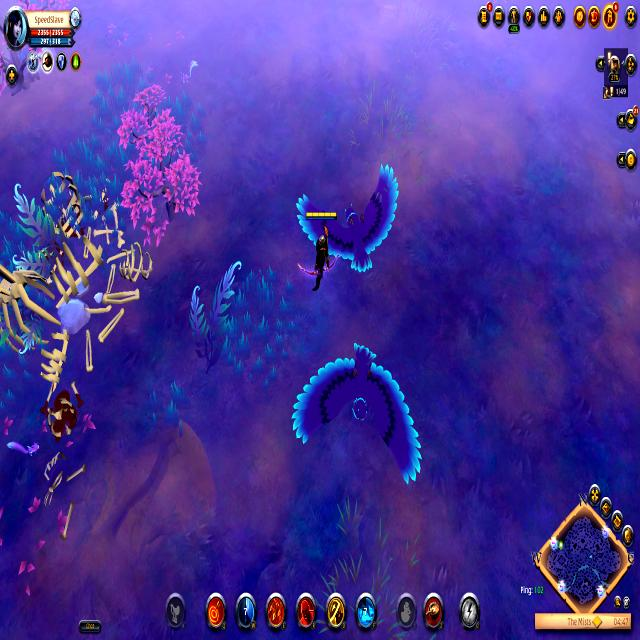mob: (284, 338, 424, 492), (294, 164, 404, 281)
red: (290, 194, 341, 296)
